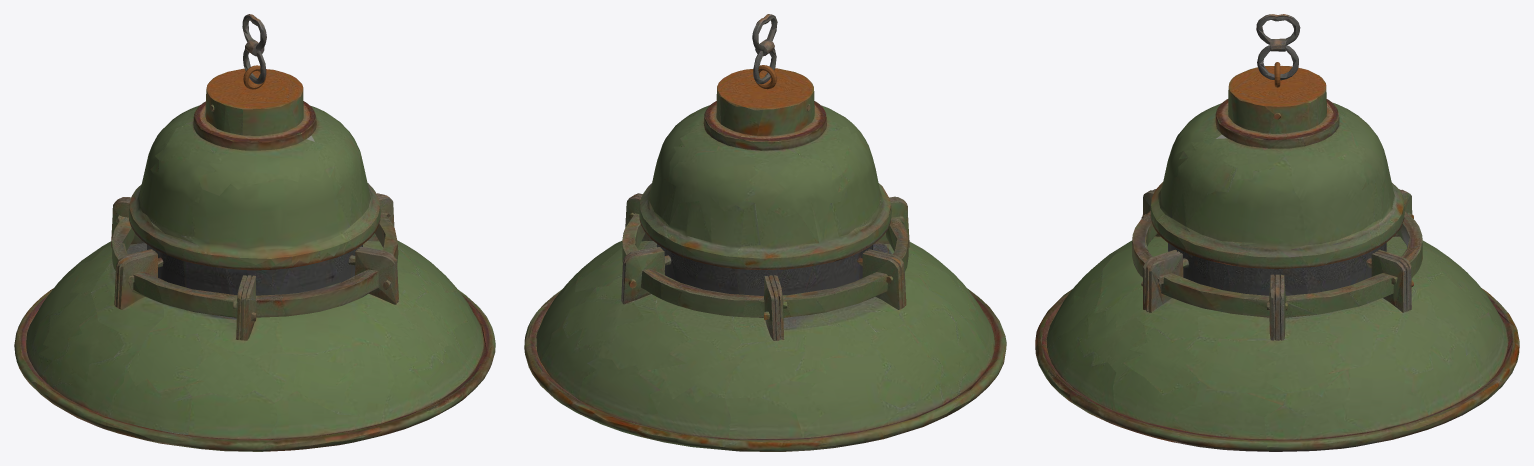
The model's file is lampada_capannone.glb.
The picture shows the model from 3 angles, left to right: view 1: azimuth 30°, elevation 25°; view 2: azimuth 150°, elevation 25°; view 3: azimuth 270°, elevation 25°; orthographic projection.
Parts seen in each view (by area): view 1: Mesh_0; view 2: Mesh_0; view 3: Mesh_0.
Boxes of the visible parts, <box> form: Mesh_0: <box>14,14,495,451</box>; Mesh_0: <box>524,14,1006,451</box>; Mesh_0: <box>1035,14,1519,451</box>.
Size of the model in its own units: 0.5 by 0.3848 by 0.5.
1 material, 1 textured.
